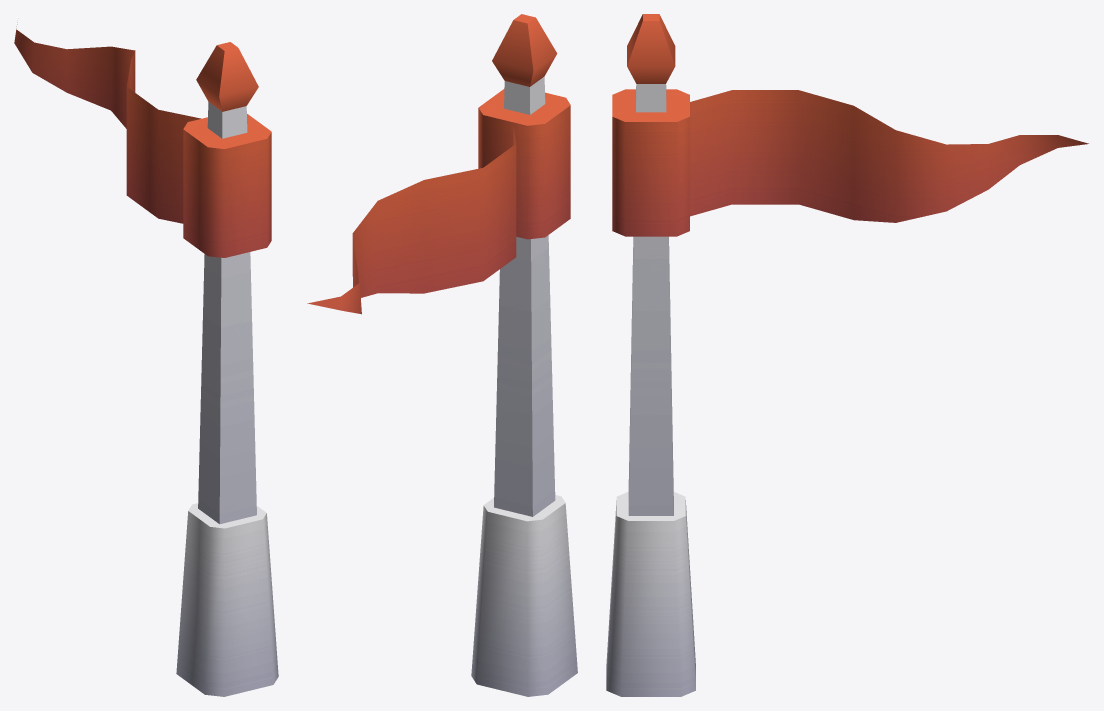
Rendered from flag-pennant.glb.
3 views of the same model, side by side, from view 1: azimuth 30°, elevation 25°; view 2: azimuth 150°, elevation 25°; view 3: azimuth 270°, elevation 25° (orthographic). The views are drawn at different scales.
Parts seen in each view (by area): view 1: flag-pennant; view 2: flag-pennant; view 3: flag-pennant.
Boxes of the visible parts, left/top/right/bottom form: flag-pennant: left=14, top=22, right=278, bottom=696; flag-pennant: left=307, top=14, right=577, bottom=696; flag-pennant: left=606, top=14, right=1088, bottom=696.
Bounding box in the file's own units: 0.3191 × 2.6 × 1.72.
Materials: 1 (1 with a texture image).
